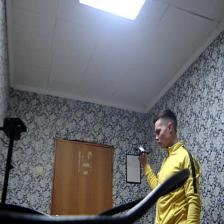drone: (131, 138, 154, 160)
